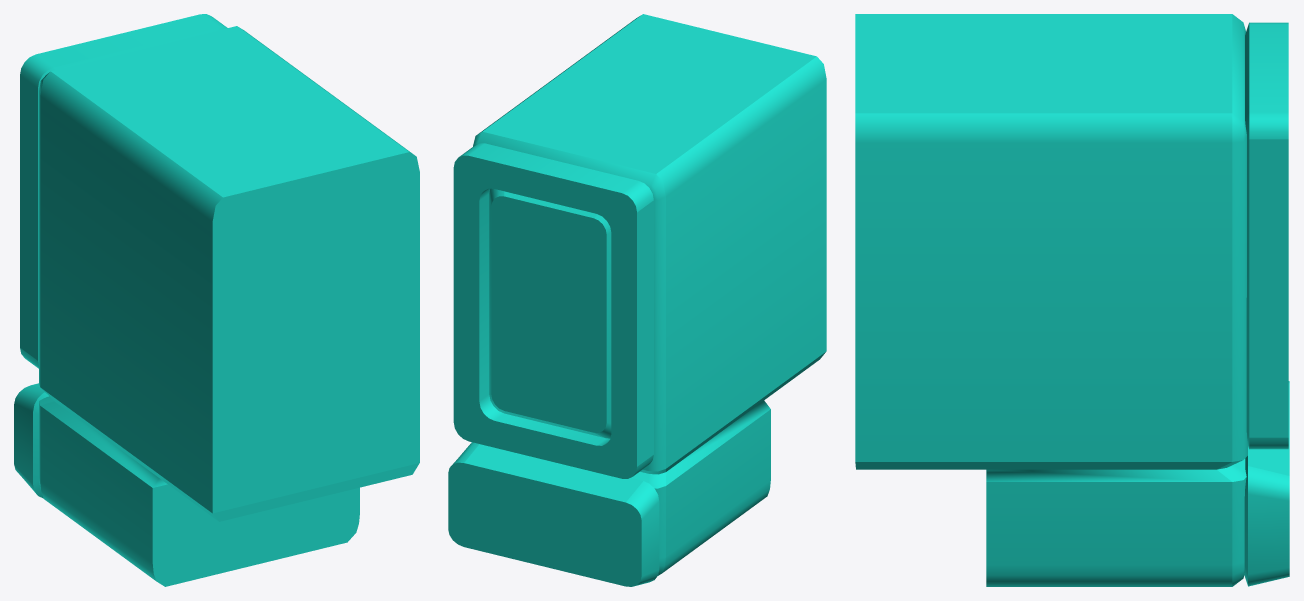
File: Cable_Vent.fbx
3 views of the same model, side by side, from view 1: azimuth 30°, elevation 25°; view 2: azimuth 150°, elevation 25°; view 3: azimuth 270°, elevation 25° (orthographic). The views are drawn at different scales.
Visible parts, largest first — view 1: Cable_Vent; view 2: Cable_Vent; view 3: Cable_Vent.
Boxes of the visible parts, <box> form: Cable_Vent: <box>14,14,419,586</box>; Cable_Vent: <box>448,14,826,586</box>; Cable_Vent: <box>855,14,1289,586</box>.
Bounding box in the file's own units: 100 × 200 × 166.
